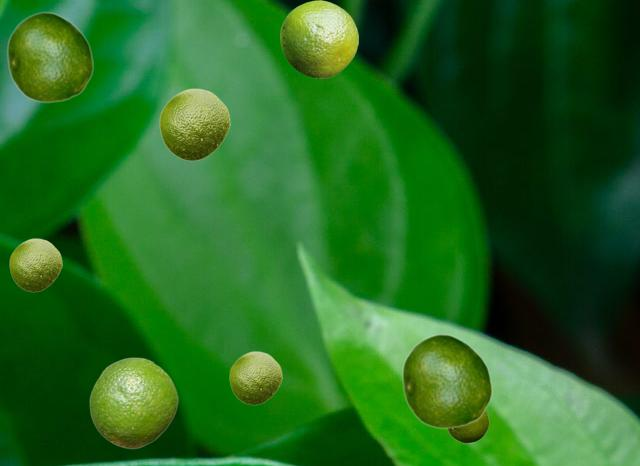calamansi: (401, 333, 492, 428), (89, 357, 177, 448), (6, 11, 93, 102), (280, 0, 357, 77), (159, 88, 229, 160), (229, 351, 281, 404), (9, 238, 61, 291), (446, 411, 488, 442)
